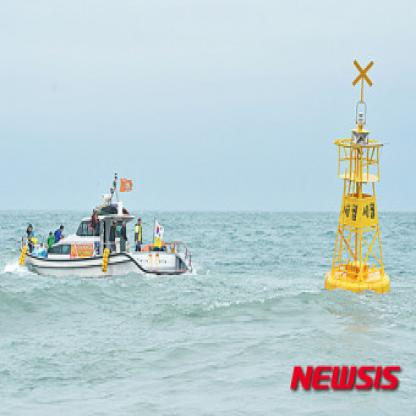buoy: (318, 49, 395, 299)
